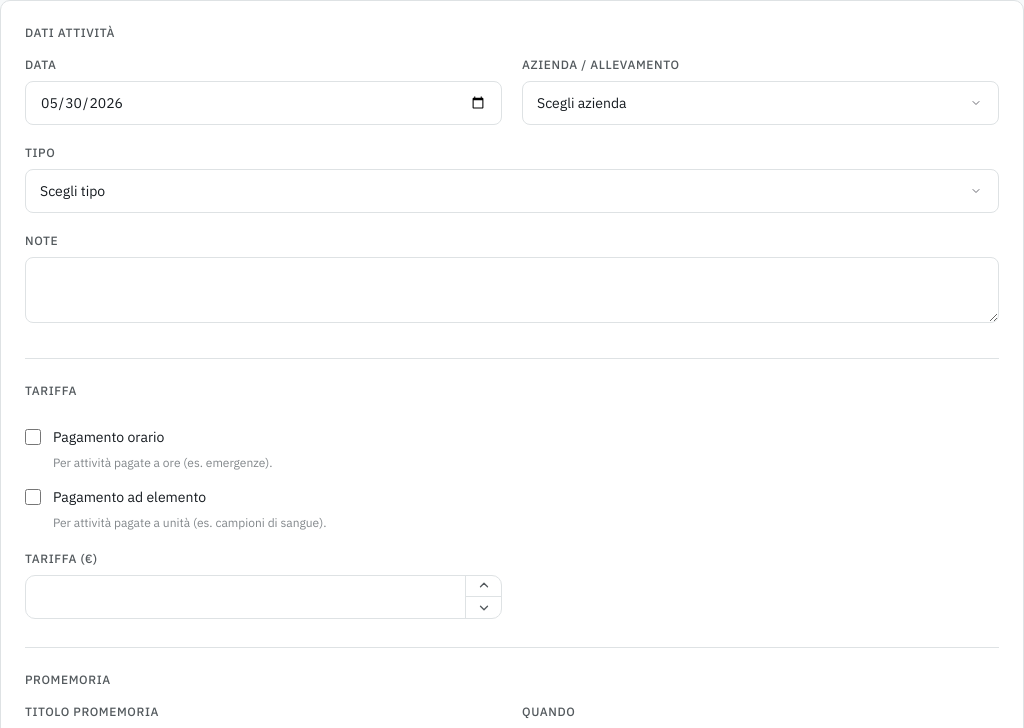
it: AttivitaFormFields › reveals the ore field only when oraria is checked
This screenshot has width=1024, height=728.
Step 1. Click the checkbox labelled "Pagamento orario" → (33, 437), box [25,429,41,445]
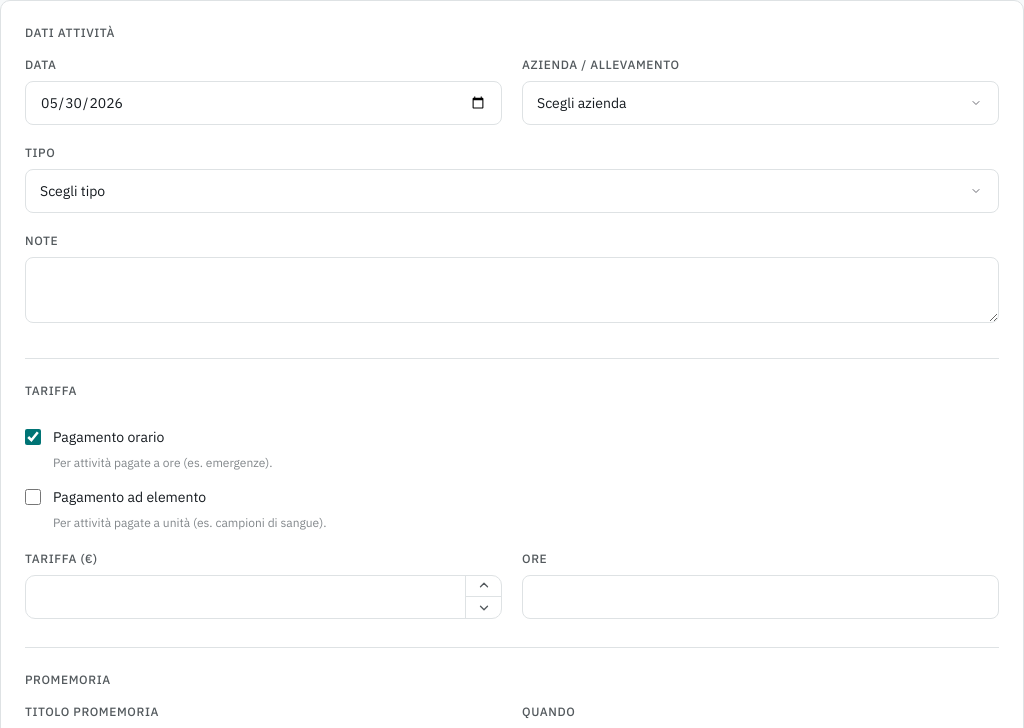
Expected: the number field labelled "Ore" is shown, [522,575,999,619]
